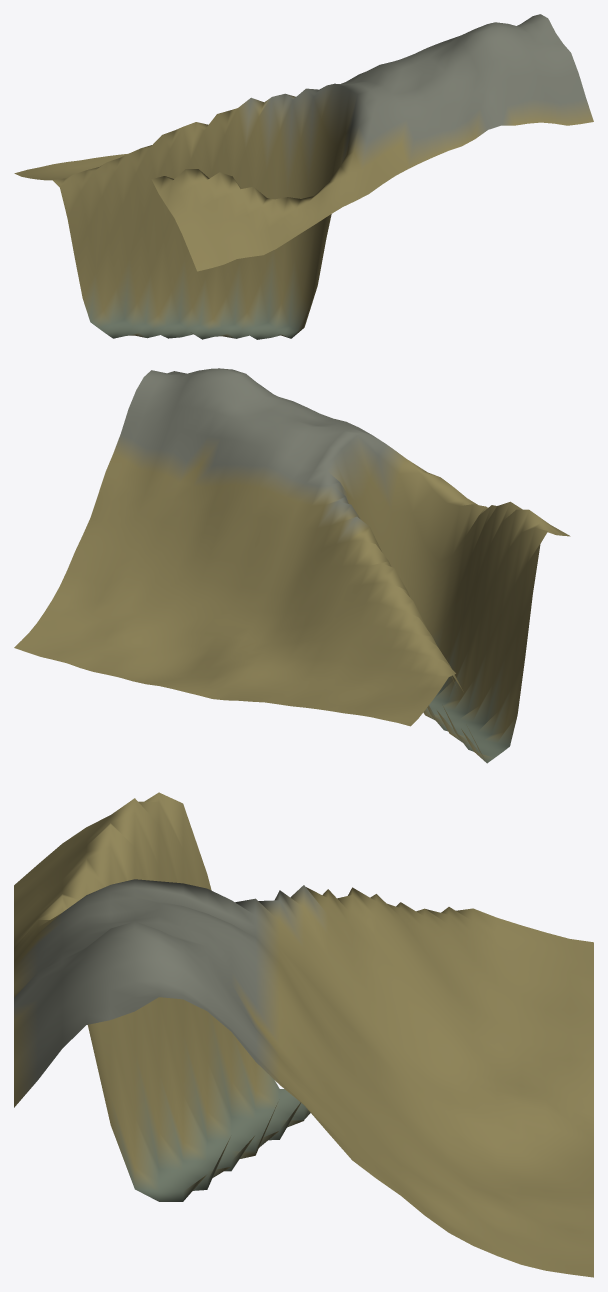
3 views of the same model, one above another, from view 1: azimuth 30°, elevation 25°; view 2: azimuth 150°, elevation 25°; view 3: azimuth 270°, elevation 25° (orthographic). The views are drawn at different scales.
Parts seen in each view (by area): view 1: world-ground/210-168; view 2: world-ground/210-168; view 3: world-ground/210-168.
Boxes of the visible parts, box(x1,y1,x2,y2) form: world-ground/210-168: box(14, 14, 593, 339); world-ground/210-168: box(14, 368, 570, 763); world-ground/210-168: box(14, 792, 593, 1277).
Bounding box in the file's own units: 37.5 × 23.72 × 30.
